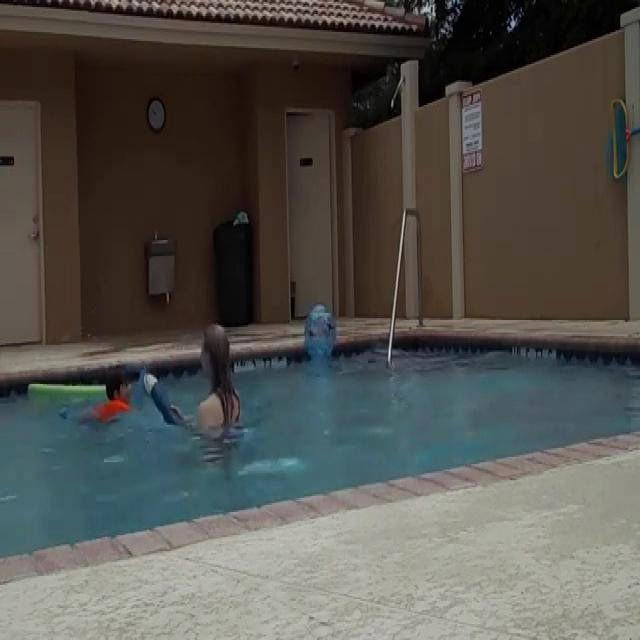adult: (190, 316, 240, 468)
child: (80, 365, 134, 438)
